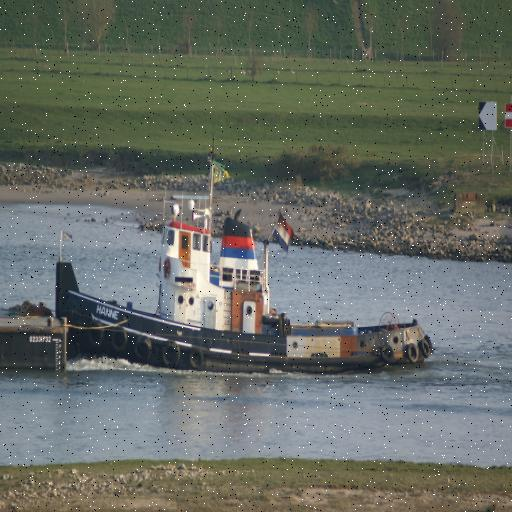tugboat: (53, 185, 443, 392)
